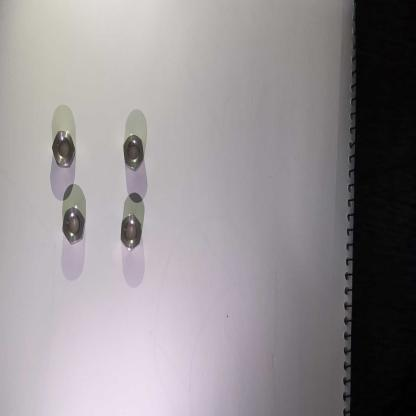NUTS: (50, 129, 77, 170), (121, 131, 145, 174), (61, 206, 86, 247), (119, 214, 143, 256)
